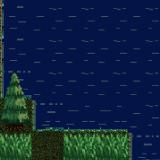Interaction: (34, 119, 137, 144), (0, 0, 19, 97), (18, 76, 56, 98), (32, 99, 55, 119), (120, 144, 138, 160)
Obstacle: (0, 98, 32, 133)
Slow: (34, 0, 131, 129), (132, 0, 160, 160), (5, 0, 34, 98), (63, 132, 128, 160), (0, 133, 32, 160)
